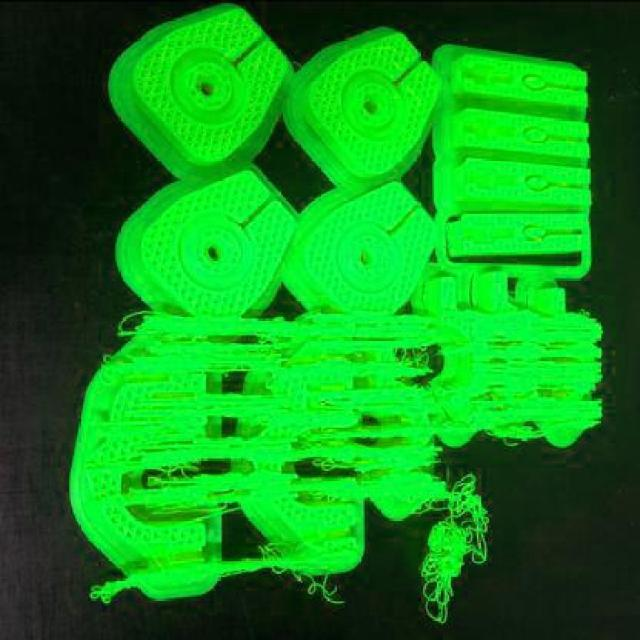Spaghetti: (85, 301, 610, 637), (417, 467, 494, 628)
